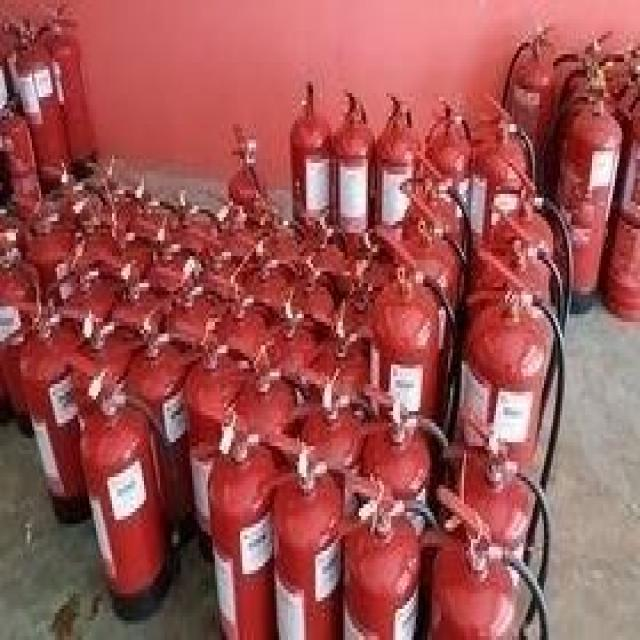fire_extinguisher: (444, 242, 564, 584), (56, 342, 175, 628), (432, 396, 553, 636), (468, 196, 564, 483), (486, 142, 575, 436), (227, 338, 310, 636), (407, 477, 558, 636), (282, 357, 367, 636), (543, 49, 630, 316), (350, 376, 439, 636), (176, 308, 261, 580), (116, 291, 202, 555), (20, 287, 103, 539), (252, 427, 348, 636), (202, 388, 282, 636), (329, 454, 432, 636), (462, 82, 535, 314), (32, 0, 101, 186), (9, 4, 73, 202), (496, 12, 558, 213), (0, 237, 57, 450), (370, 78, 428, 279), (417, 84, 477, 278), (216, 109, 271, 314), (594, 82, 638, 334), (326, 78, 385, 256), (283, 74, 336, 240), (0, 88, 48, 246)
